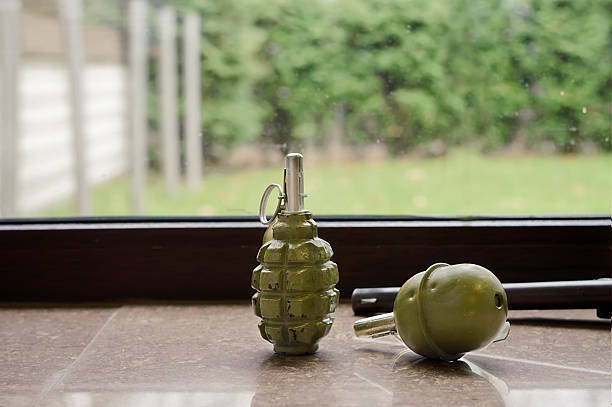e1: (252, 152, 339, 358), (352, 260, 514, 364)
